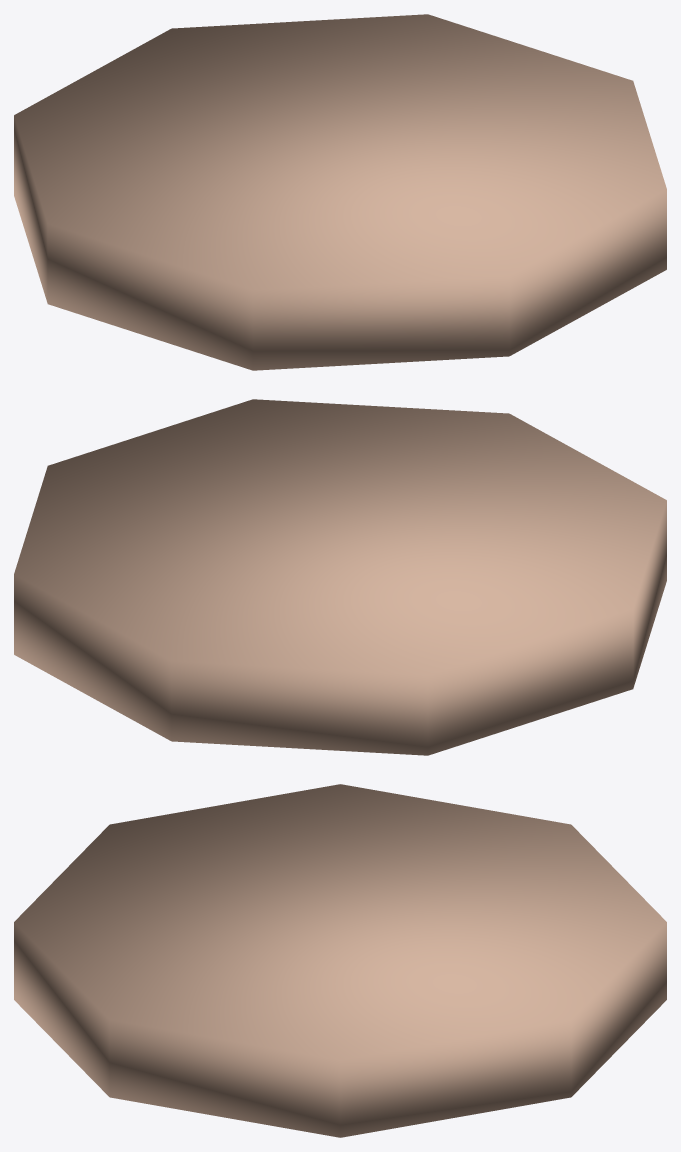
The model's file is mushroom-slice-mini.glb.
The picture shows the model from 3 angles, top to bottom: view 1: azimuth 30°, elevation 25°; view 2: azimuth 150°, elevation 25°; view 3: azimuth 270°, elevation 25°; orthographic projection. The views are drawn at different scales.
Visible parts, largest first — view 1: MushroomSliceMini.001; view 2: MushroomSliceMini.001; view 3: MushroomSliceMini.001.
Part boxes in pixels (x1,y1,x2,y2): MushroomSliceMini.001: [14, 14, 666, 370]; MushroomSliceMini.001: [14, 399, 666, 755]; MushroomSliceMini.001: [14, 784, 666, 1137].
Bounding box in the file's own units: 0.045 × 0.00591 × 0.045.
Materials: 1 (1 with a texture image).
